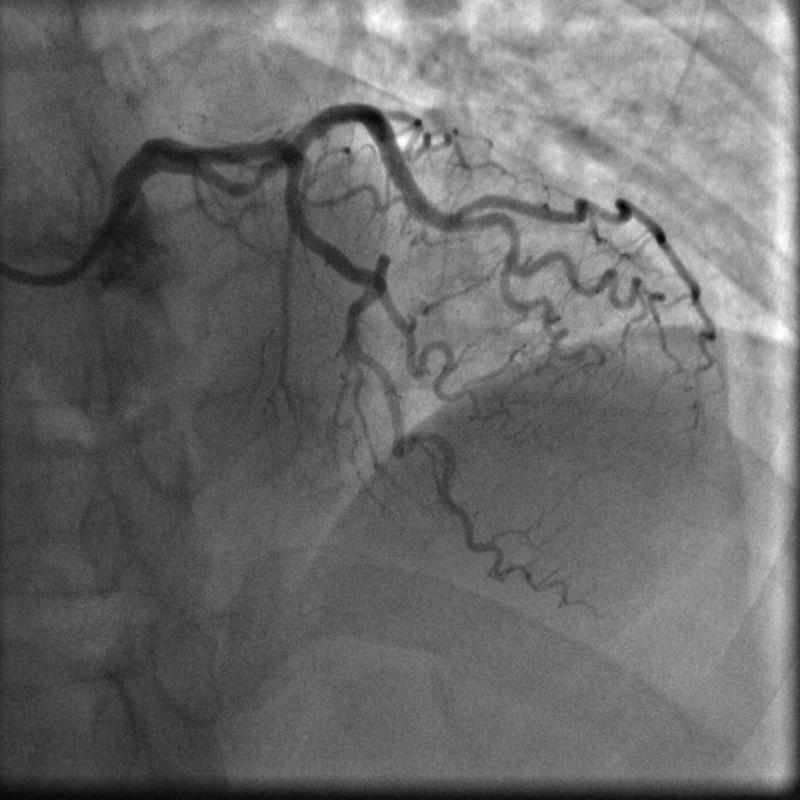Stenosis: (228, 162, 276, 191)
